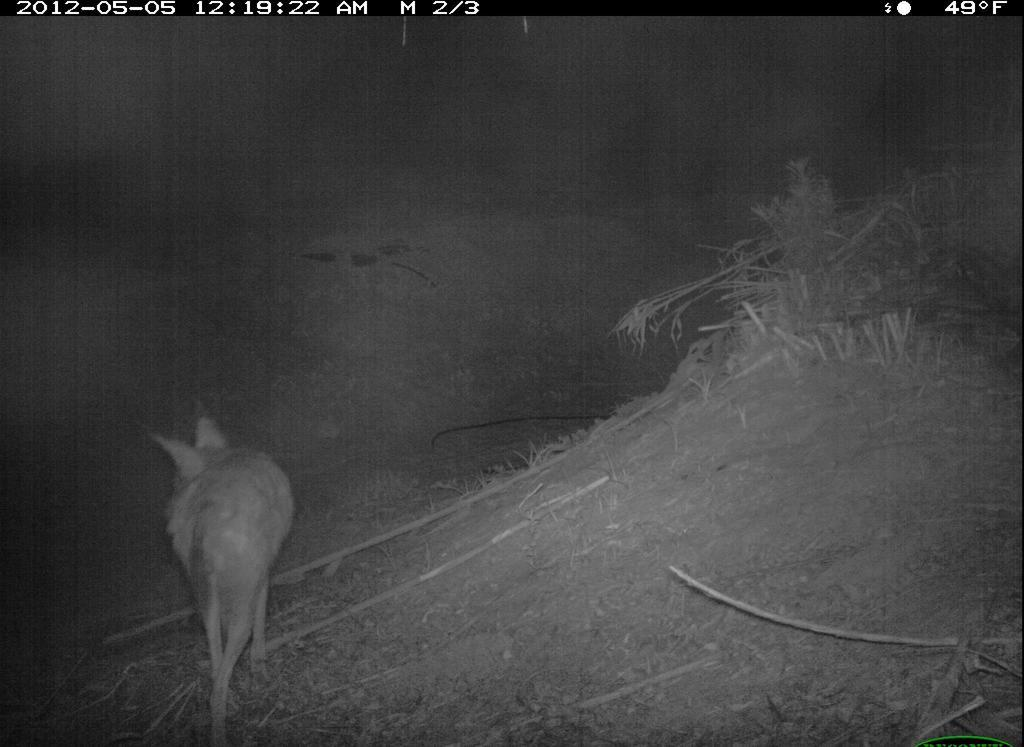coyote: (143, 402, 308, 739)
